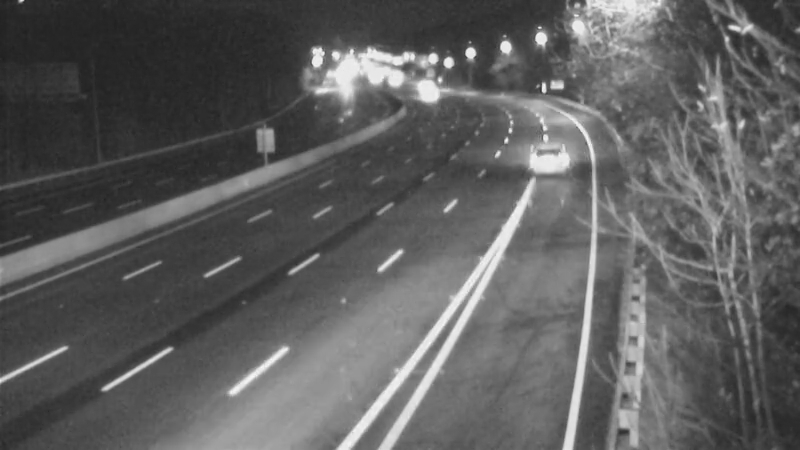vehicle: (495, 111, 575, 191), (405, 60, 455, 110), (401, 71, 451, 121)
